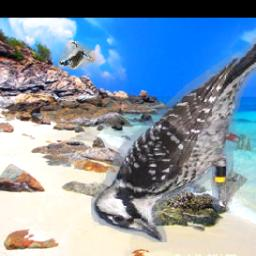Swallow: (58, 42, 96, 71)
Woodpecker: (91, 38, 256, 243)
